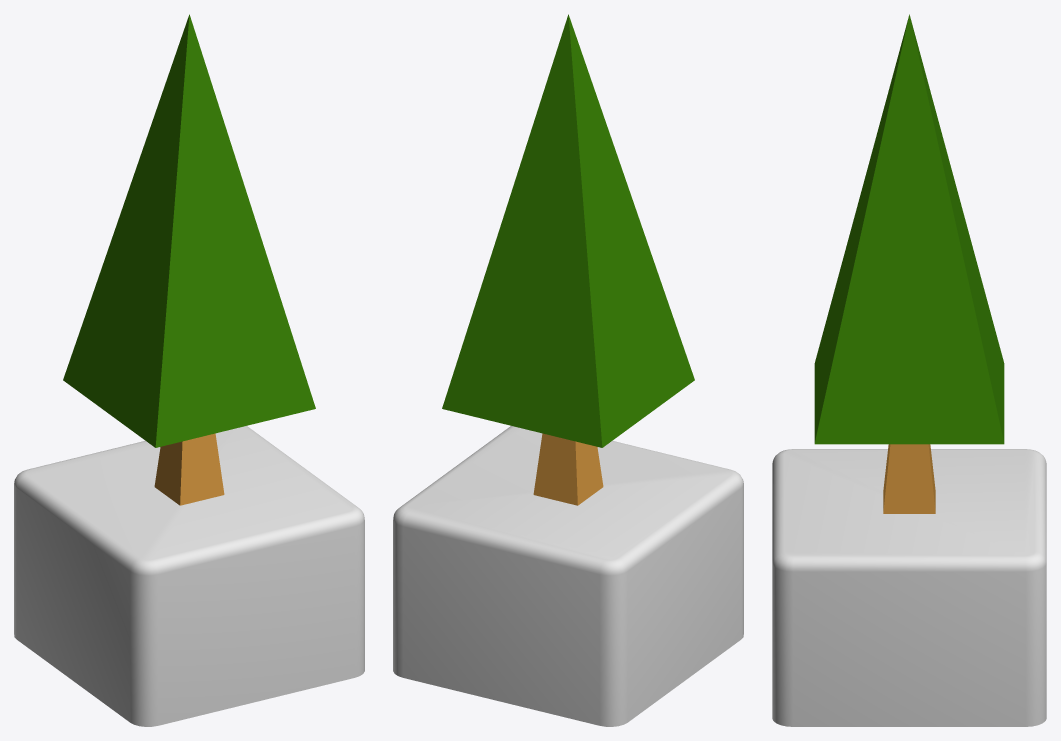
The picture shows the model from 3 angles, left to right: view 1: azimuth 30°, elevation 25°; view 2: azimuth 150°, elevation 25°; view 3: azimuth 270°, elevation 25°; orthographic projection. The views are drawn at different scales.
Parts seen in each view (by area): view 1: land, wood; view 2: land, wood; view 3: land, wood.
Part boxes in pixels (x1,y1,x2,y2): land: (14, 426, 364, 726); wood: (63, 14, 315, 505); land: (393, 426, 743, 726); wood: (442, 14, 694, 505); land: (772, 449, 1046, 726); wood: (814, 14, 1004, 513).
Bounding box in the file's own units: 300 × 789 × 300.
